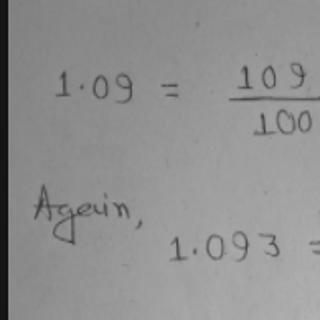.: (75, 80, 86, 92), (189, 245, 200, 257)
0: (205, 233, 225, 264), (275, 109, 296, 136), (92, 75, 110, 101), (297, 108, 313, 137), (261, 63, 277, 90)
1: (55, 69, 74, 102), (252, 112, 274, 140), (169, 236, 187, 264), (237, 63, 253, 91)
3: (257, 227, 282, 261)
9: (111, 73, 133, 105), (231, 230, 250, 267), (290, 61, 306, 93)
